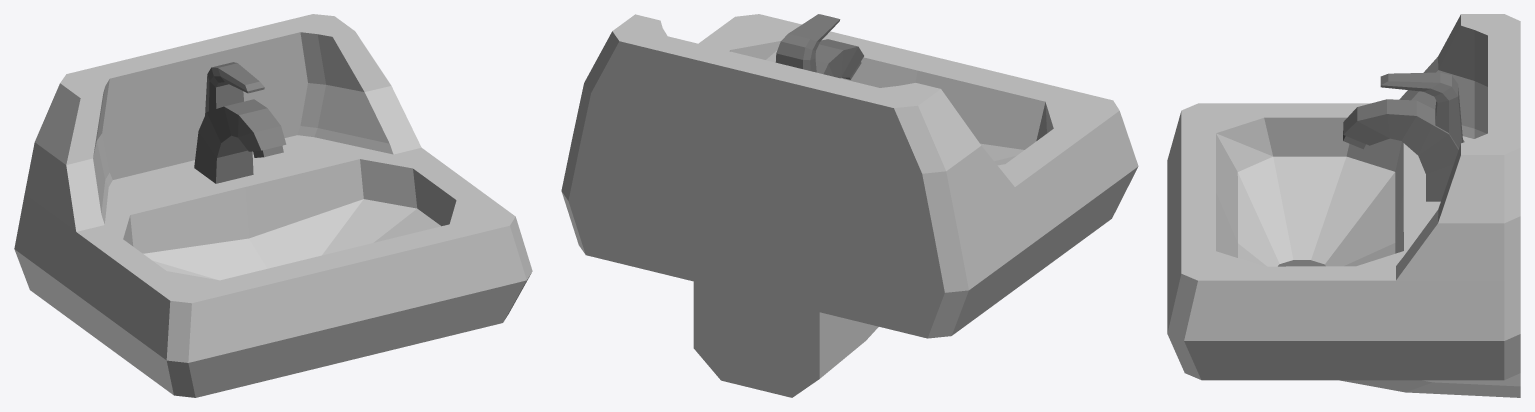
Rendered from Int_RestroomSink01.fbx.
3 views of the same model, side by side, from view 1: azimuth 30°, elevation 25°; view 2: azimuth 150°, elevation 25°; view 3: azimuth 270°, elevation 25° (orthographic). The views are drawn at different scales.
Visible parts, largest first — view 1: Int_RestroomSink01; view 2: Int_RestroomSink01; view 3: Int_RestroomSink01.
Boxes of the visible parts, x1=… form: Int_RestroomSink01: x1=14, y1=14, x2=532, y2=397; Int_RestroomSink01: x1=561, y1=14, x2=1138, y2=397; Int_RestroomSink01: x1=1167, y1=14, x2=1520, y2=397.
Size of what is drawn, in the model's own units: 91.47 by 72.69 by 69.09.
